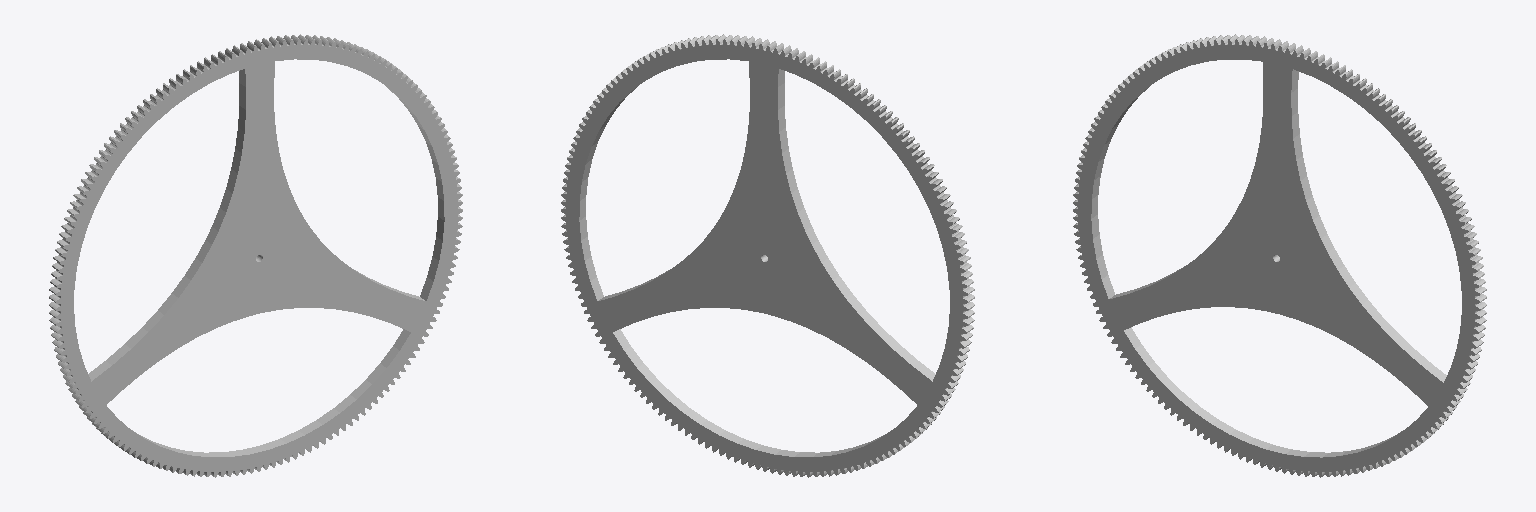
The picture shows the model from 3 angles: view 1: azimuth 30°, elevation 25°; view 2: azimuth 150°, elevation 25°; view 3: azimuth 330°, elevation 25°; orthographic projection.
Parts seen in each view (by area): view 1: mmGroup0; view 2: mmGroup0; view 3: mmGroup0.
Boxes of the visible parts, box(x1,y1,x2,y2) form: mmGroup0: box(49, 34, 462, 477); mmGroup0: box(561, 34, 974, 477); mmGroup0: box(1073, 34, 1486, 477).
Size of the model in its own units: 34.45 by 34.45 by 0.9843.